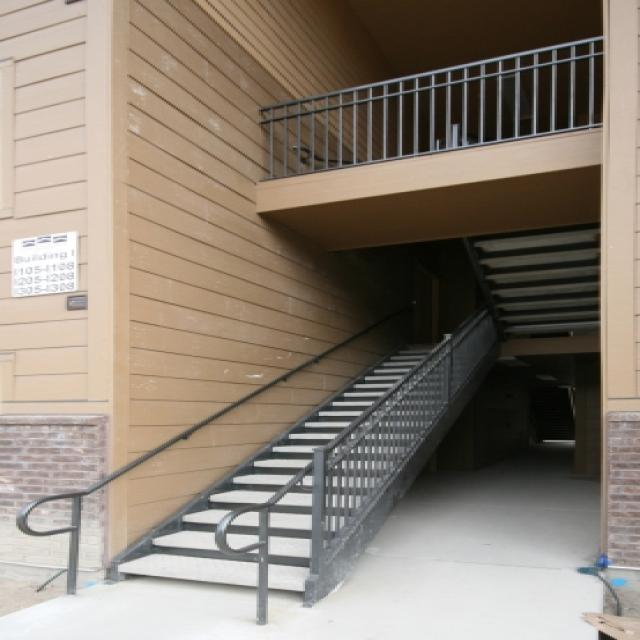stairs: (108, 337, 453, 598)
